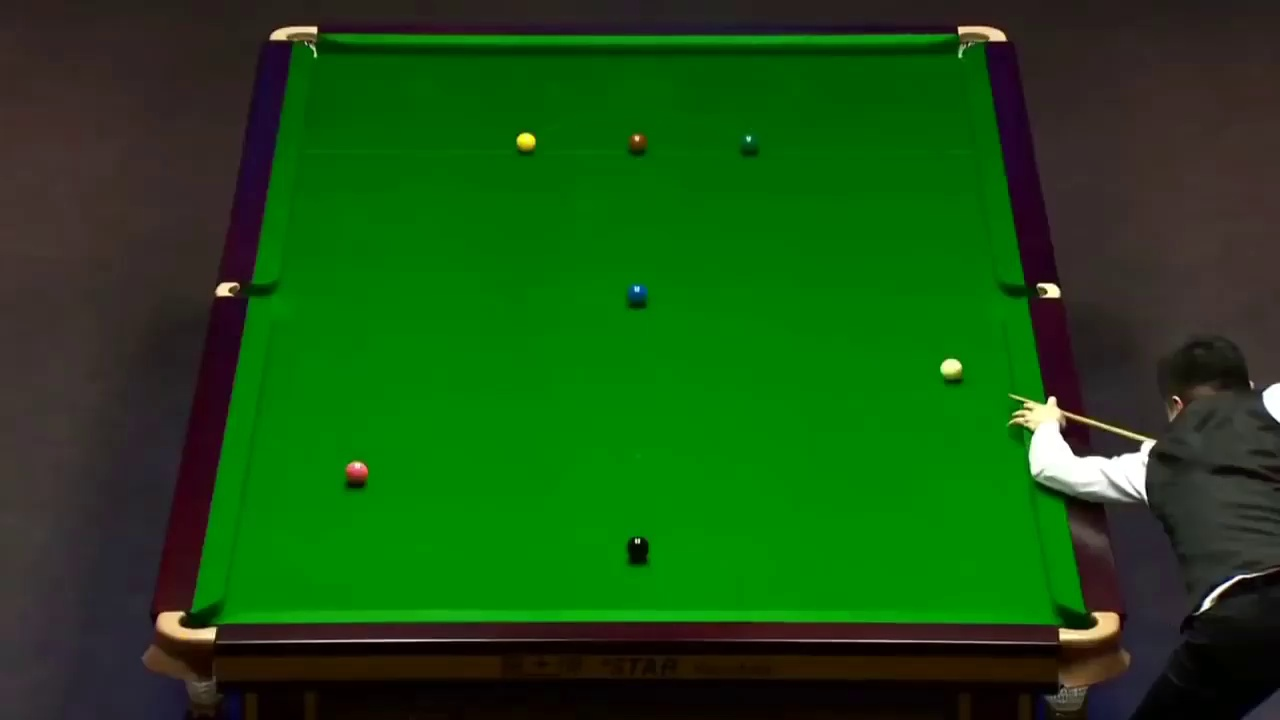ball: (626, 534, 651, 563), (940, 354, 964, 383), (735, 132, 761, 158), (345, 454, 368, 483), (511, 132, 536, 155), (626, 133, 649, 155), (627, 283, 649, 305)
